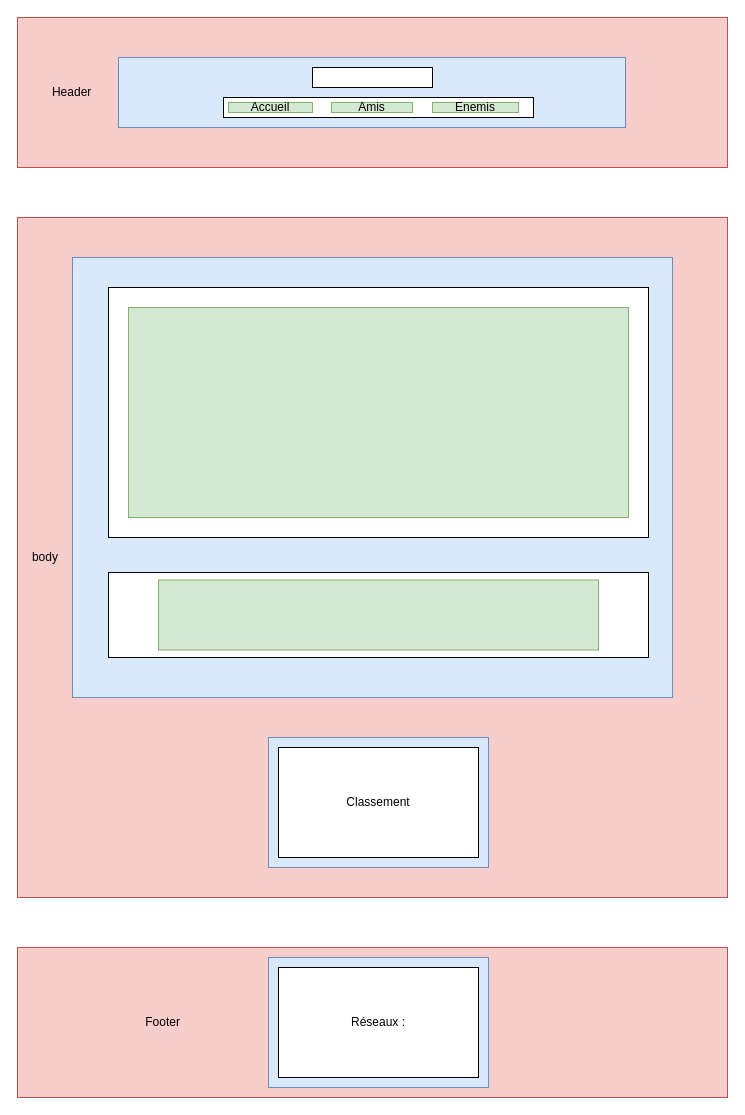
Image size: 745x1115. Some labels were removed from this diagram. Each missing label, with the centre of its shape:
Description: pixel 378 614
Image Anim: pixel 378 412
Présentation: pixel 372 77
